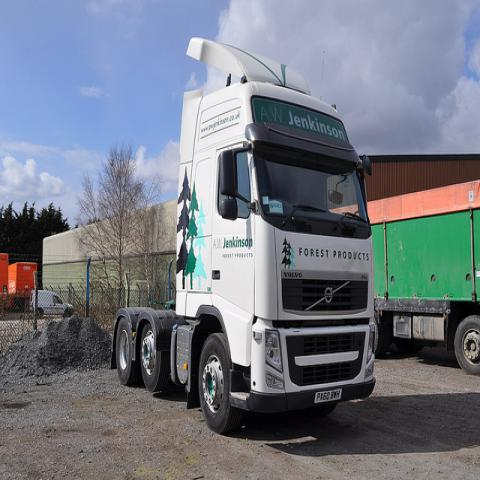truck: (109, 36, 378, 435), (368, 179, 480, 374), (2, 262, 37, 313), (28, 290, 74, 318), (0, 254, 8, 300)
